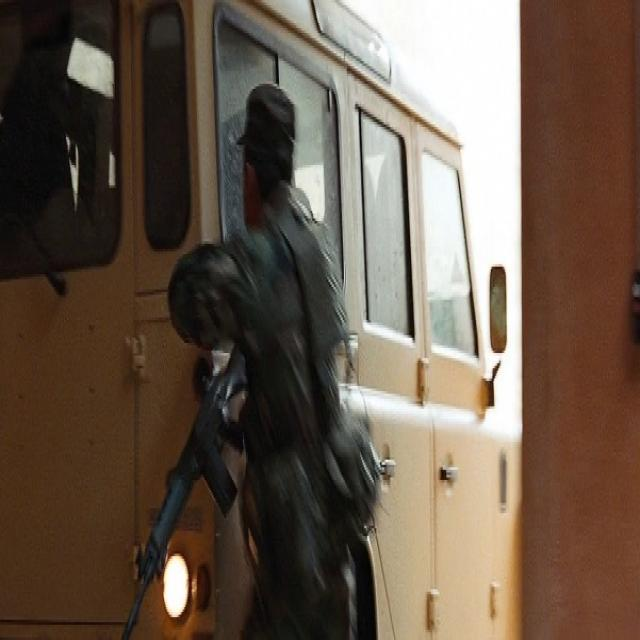rifle: (121, 344, 254, 640)
